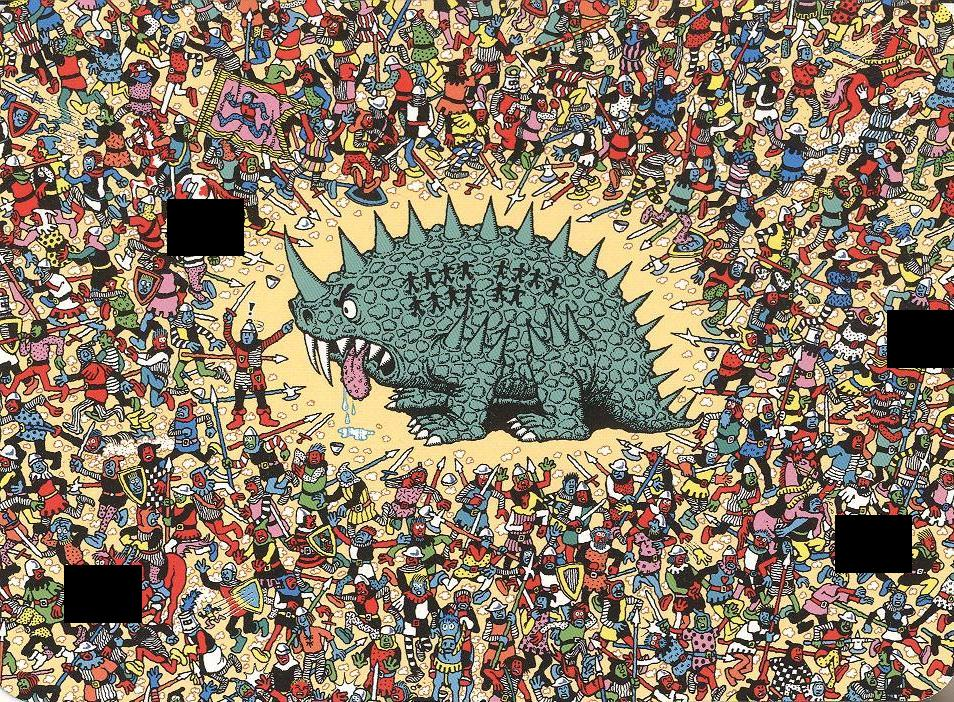waldo: (883, 332, 904, 353)
